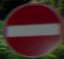No entry: (6, 6, 58, 47)
